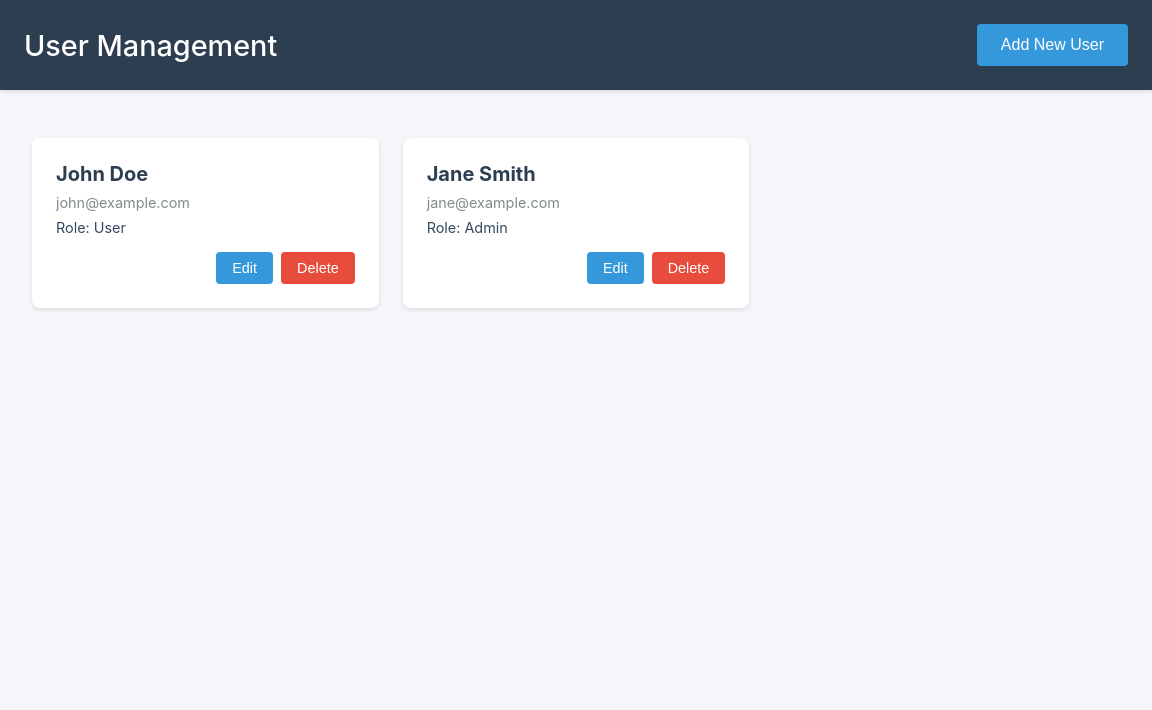
Test: App › Form Cancellation › closes form when cancel is clicked
The image size is (1152, 710).
// Open create form
Click the button with test id "add-user-button": (1052, 45) [977, 24, 1128, 66]
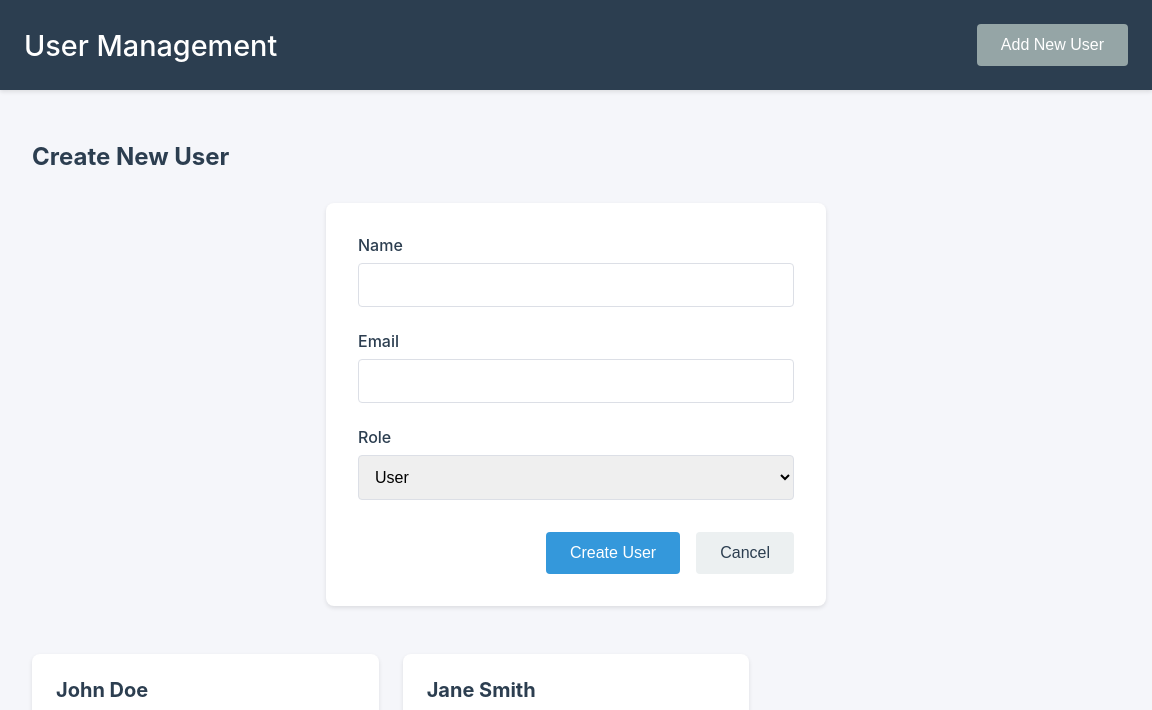
Result: the form with test id "user-form" is shown at [326, 203, 826, 606]
// Click cancel
Click the button with test id "cancel-button": (745, 553) [696, 532, 794, 574]
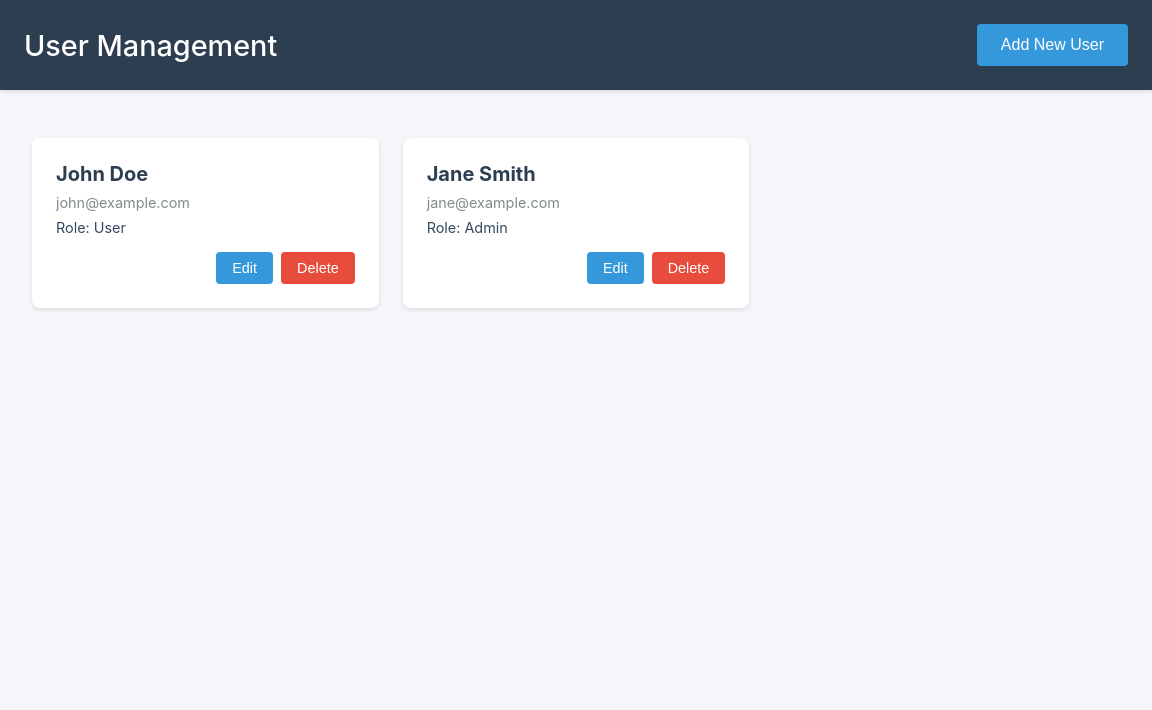
Result: the form with test id "user-form" is gone
